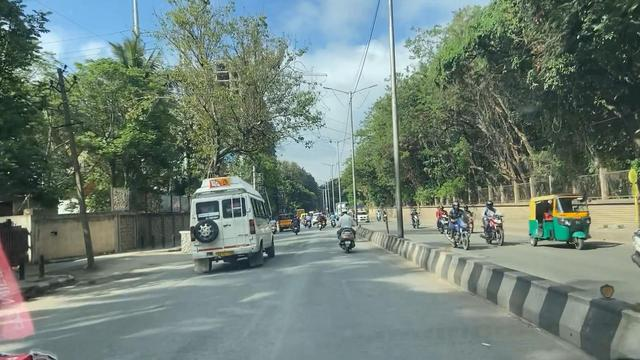HMV: (176, 171, 278, 266)
LMV: (336, 207, 358, 253)
